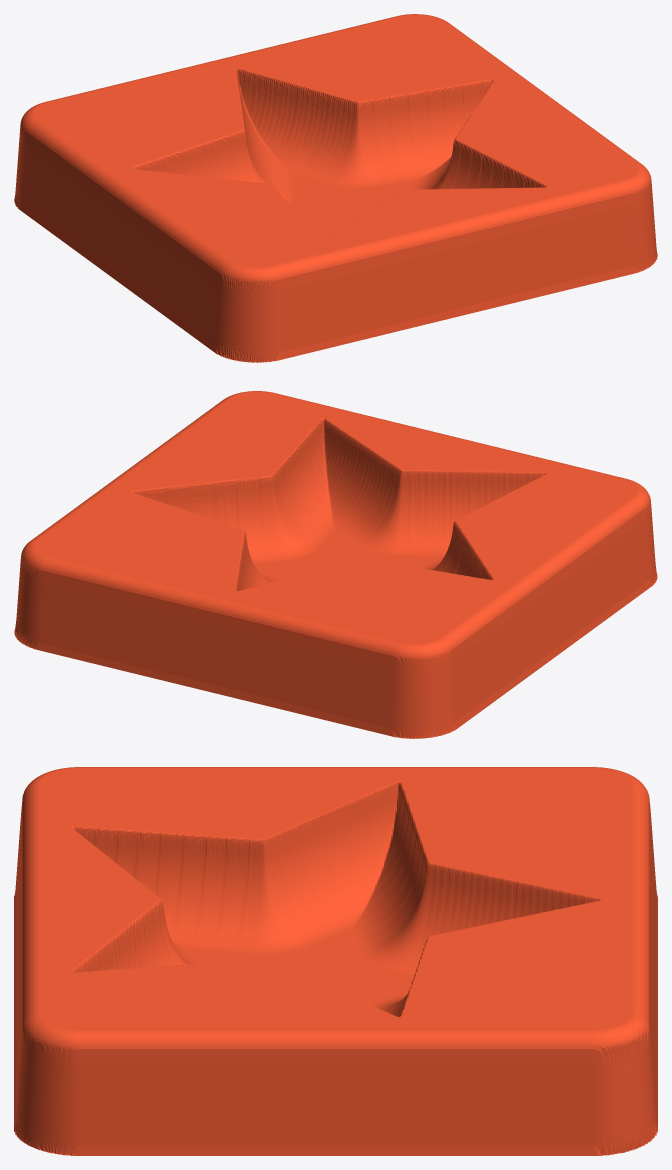
The model's file is mold.glb.
The picture shows the model from 3 angles, top to bottom: view 1: azimuth 30°, elevation 25°; view 2: azimuth 150°, elevation 25°; view 3: azimuth 270°, elevation 25°; orthographic projection. The views are drawn at different scales.
Visible parts, largest first — view 1: geometry_0; view 2: geometry_0; view 3: geometry_0.
Boxes of the visible parts, bbox=[...] form: geometry_0: bbox=[14, 14, 657, 362]; geometry_0: bbox=[14, 391, 657, 738]; geometry_0: bbox=[14, 767, 657, 1155].
Bounding box in the file's own units: 0.0924 × 0.0175 × 0.0888.
